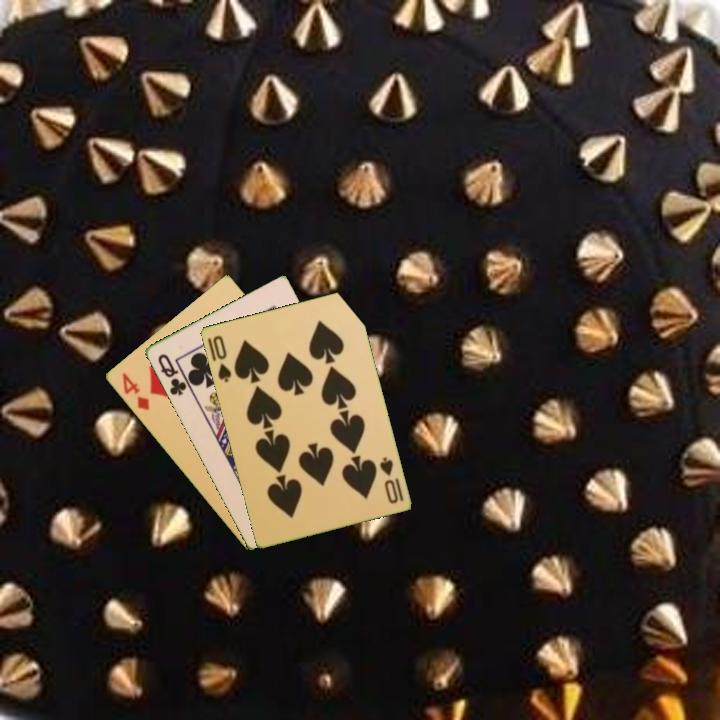10s: (376, 453, 406, 506), (209, 332, 234, 385)
4d: (118, 369, 152, 414)
Qc: (154, 350, 189, 399)
